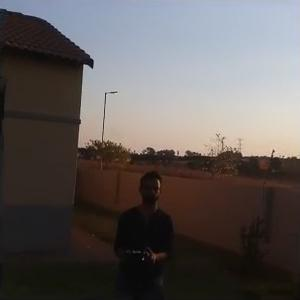follow: (108, 162, 176, 298)
